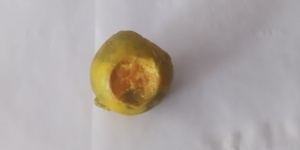BAD: (92, 30, 168, 114)
